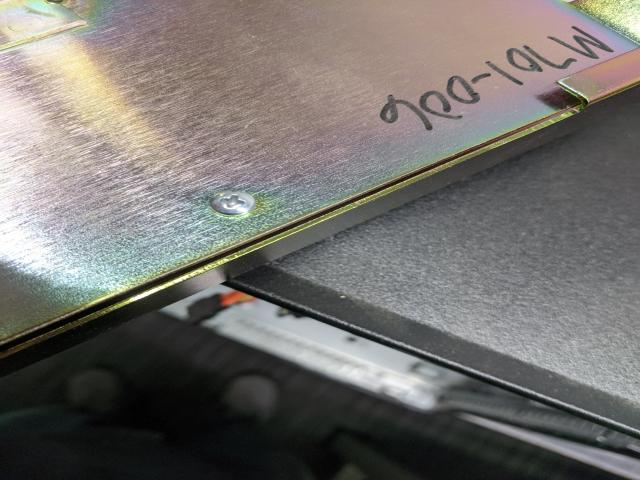CRS: (207, 191, 256, 215)
